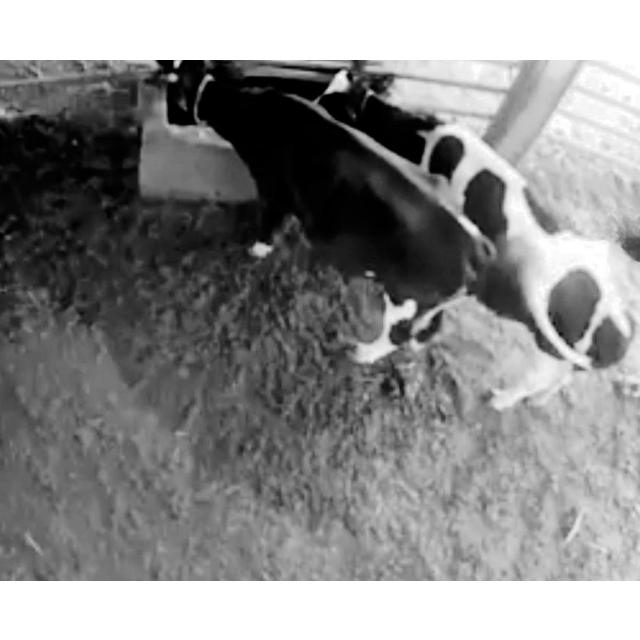drink: (304, 59, 452, 160), (150, 60, 280, 152)
